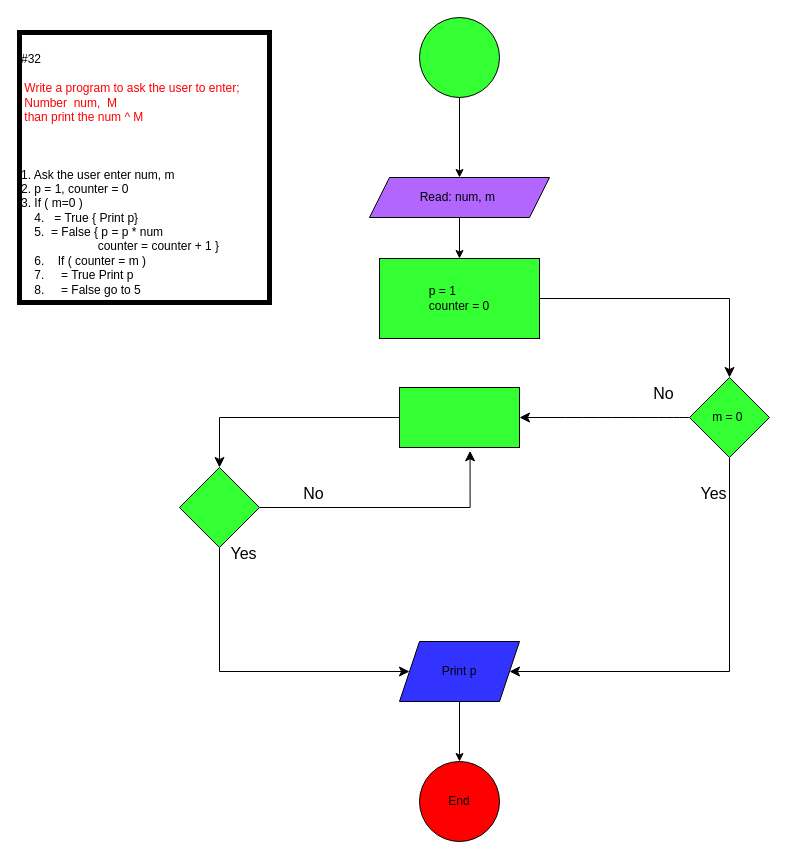
This 787x859 diagram has some shape labels left out. Each missing label, with the box of its shape:
counter = m: (178, 466, 260, 548)
p = p * num counter = counter +1: (398, 386, 520, 448)
Start: (418, 16, 500, 98)
